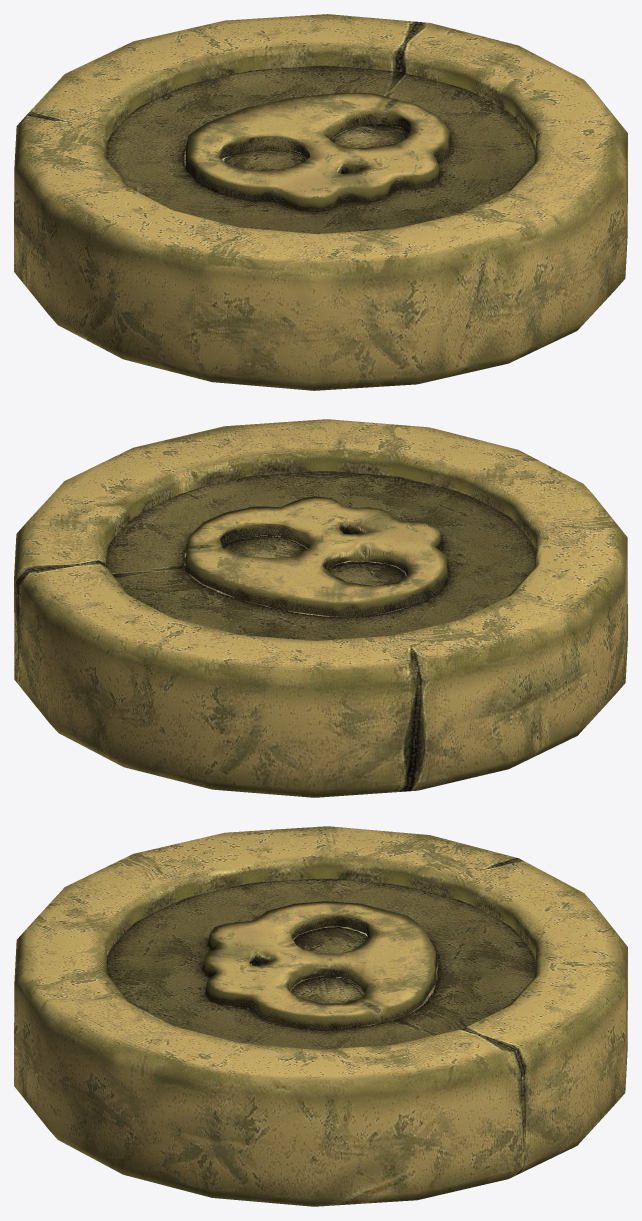
The model's file is coin.glb.
3 renders of one model, top to bottom at view 1: azimuth 30°, elevation 25°; view 2: azimuth 150°, elevation 25°; view 3: azimuth 270°, elevation 25°, orthographic.
Parts seen in each view (by area): view 1: Object_2; view 2: Object_2; view 3: Object_2.
Boxes of the visible parts, x1,y1,x2,y2 form: Object_2: (14,14,627,390); Object_2: (14,419,627,797); Object_2: (14,826,627,1206).
Bounding box in the file's own units: 0.2021 × 0.0458 × 0.1997.
Materials: 1 (1 with a texture image).
